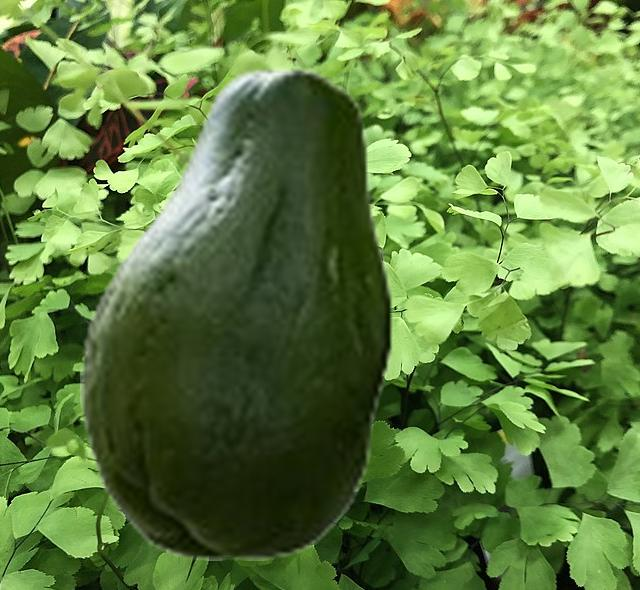sayote: (80, 66, 393, 559)
